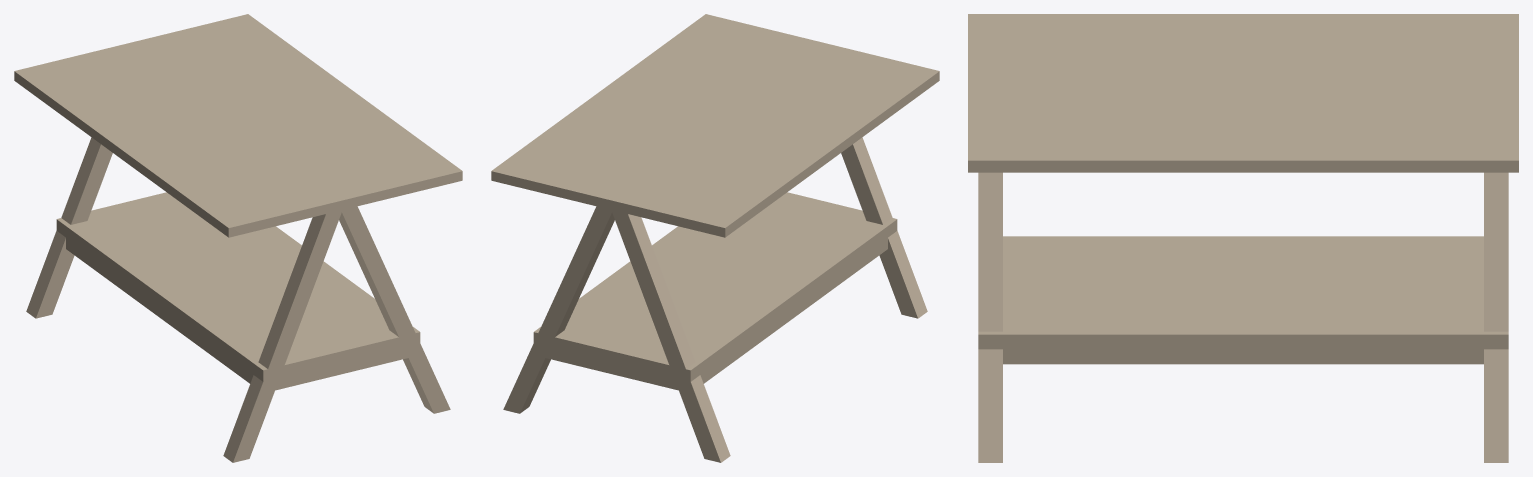
File: 3dcodebench_SimpleDesk_seed0_L4_Q0__gpt61_sol.glb
3 renders of one model, left to right at view 1: azimuth 30°, elevation 25°; view 2: azimuth 150°, elevation 25°; view 3: azimuth 270°, elevation 25°, orthographic. The views are drawn at different scales.
Parts seen in each view (by area): view 1: object; view 2: object; view 3: object.
Part boxes in pixels (<box>): object: <box>14,14,462,462</box>; object: <box>491,14,939,462</box>; object: <box>968,14,1518,462</box>.
Size of the model in its own units: 0.7452 by 0.7293 by 1.18.
